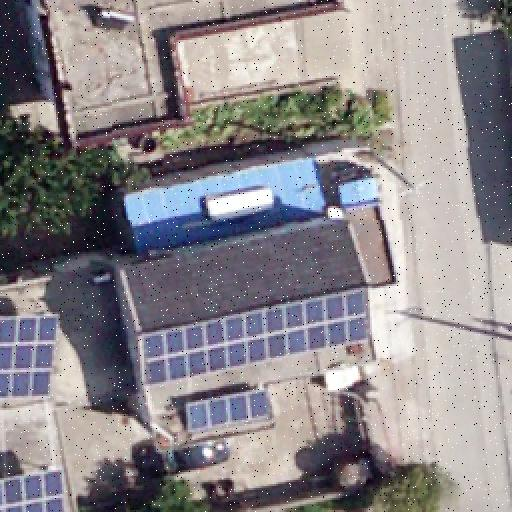solar-panel: (140, 286, 372, 386), (1, 314, 63, 398), (186, 385, 274, 431), (0, 468, 64, 512)
